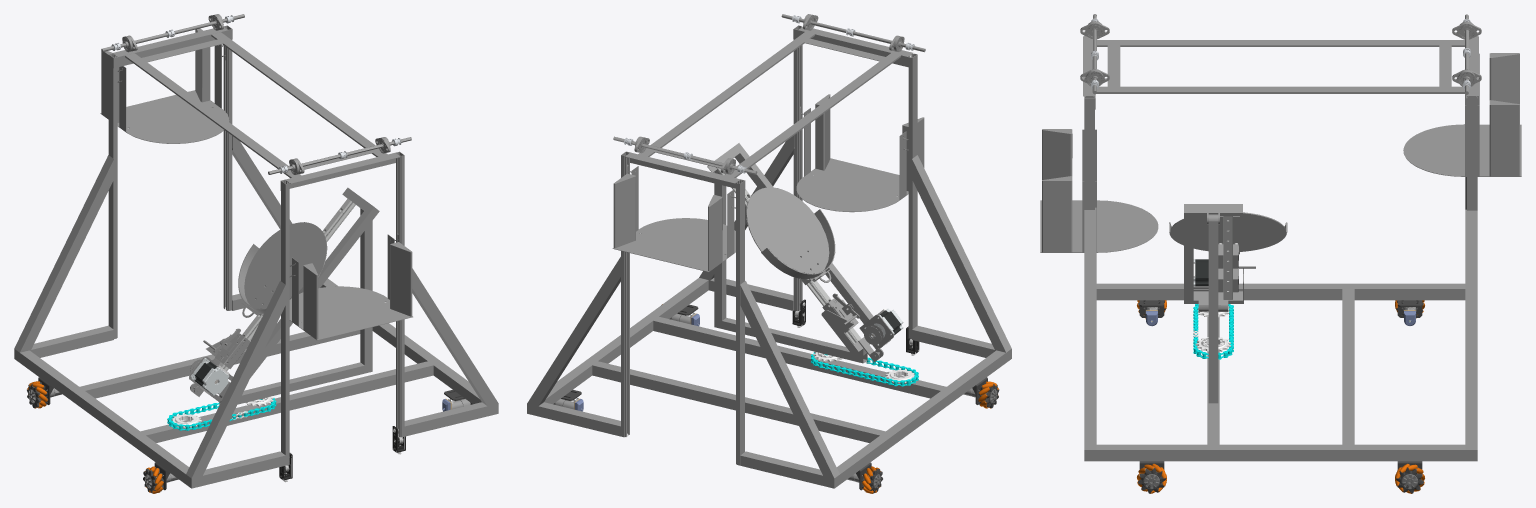
Rendered from elephant.glb.
The picture shows the model from 3 angles, left to right: view 1: azimuth 30°, elevation 25°; view 2: azimuth 150°, elevation 25°; view 3: azimuth 270°, elevation 25°; orthographic projection. The views are drawn at different scales.
Visible parts, largest first — view 1: Body17.007; view 2: Body17.007; view 3: Body17.007.
Boxes of the visible parts, x1,y1,x2,y2 form: Body17.007: (14, 14, 498, 493); Body17.007: (527, 14, 1011, 493); Body17.007: (1040, 14, 1521, 493).
Size of the model in its own units: 1.35 by 1.25 by 1.51.
